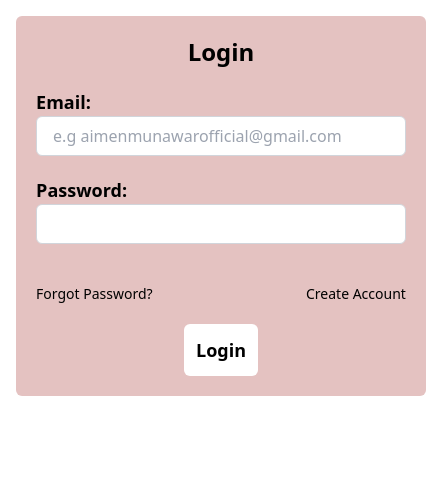
Login Component Display Tests › renders the Sign Up form when toggled
Click the text "Create Account".
click(356, 294)  # box [306,284,406,304]
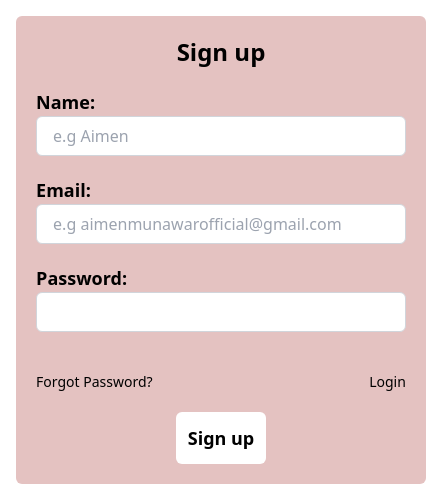
Expected: the field labelled "Name:" is shown, [36,116,406,156]
Expected: the heading "Sign up" is shown, [177,35,265,68]
Expected: the button "Sign up" is shown, [176,412,266,464]
